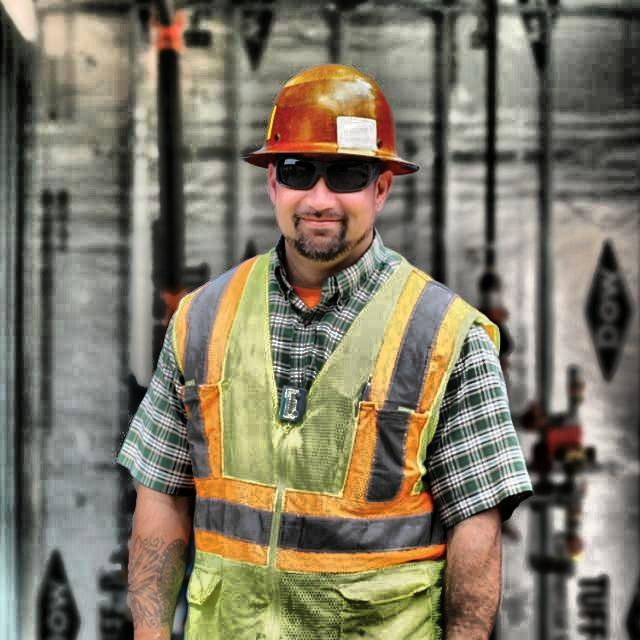person: (151, 57, 534, 632)
